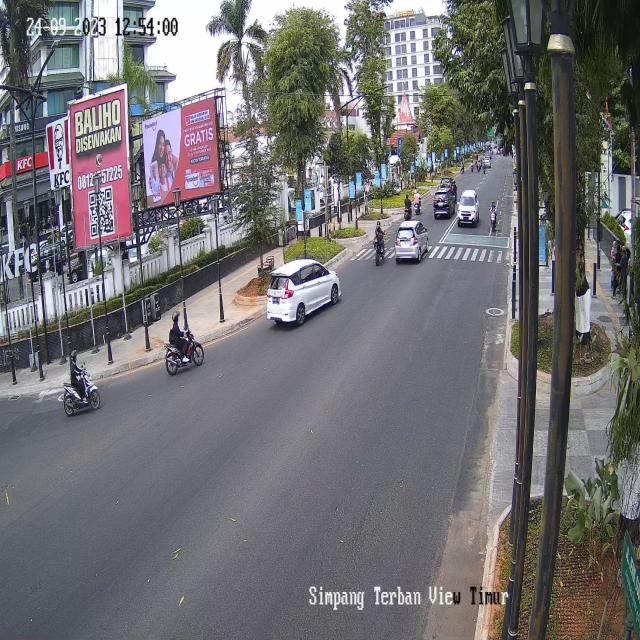car: (267, 259, 335, 329), (395, 219, 429, 264), (456, 186, 482, 229), (432, 187, 456, 223)
motorcycle: (162, 306, 204, 374), (64, 352, 99, 414), (371, 219, 387, 268), (402, 192, 412, 227), (489, 200, 498, 236)
